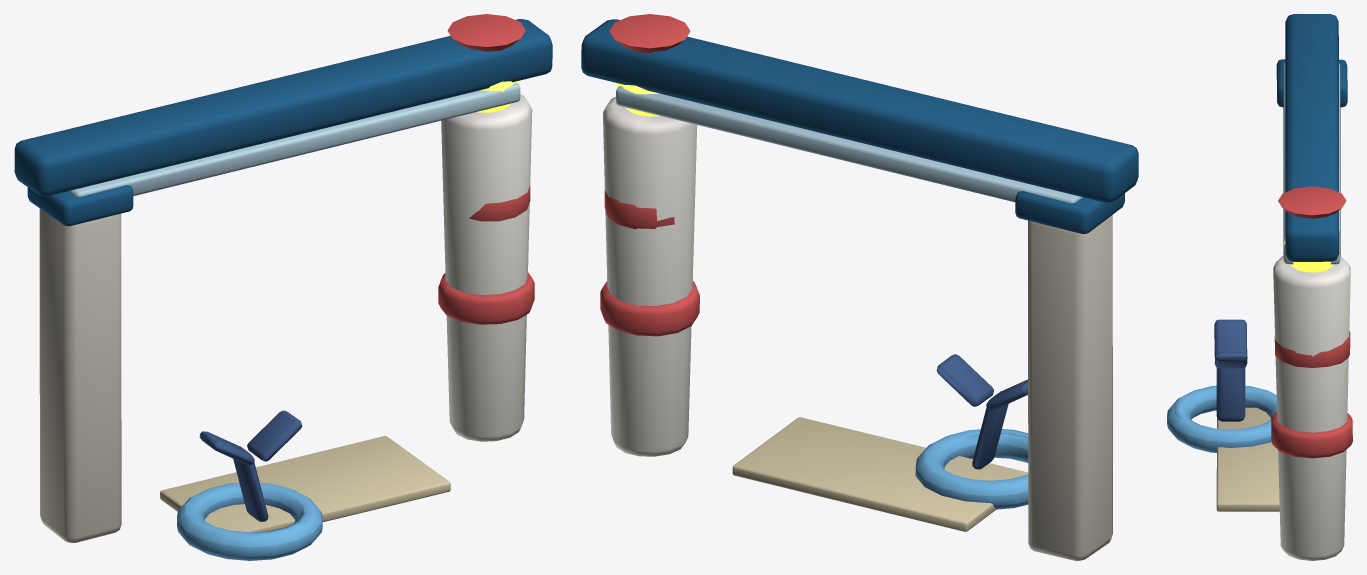
The picture shows the model from 3 angles, left to right: view 1: azimuth 30°, elevation 25°; view 2: azimuth 150°, elevation 25°; view 3: azimuth 270°, elevation 25°; orthographic projection. The views are drawn at different scales.
Parts seen in each view (by area): view 1: gate_11f527b0; view 2: gate_11f527b0; view 3: gate_11f527b0.
Part boxes in pixels (left/top/right/bottom): gate_11f527b0: left=14, top=14, right=552, bottom=560; gate_11f527b0: left=581, top=14, right=1138, bottom=560; gate_11f527b0: left=1167, top=14, right=1352, bottom=560.
Size of the model in its own units: 5.45 by 4.05 by 1.94.
